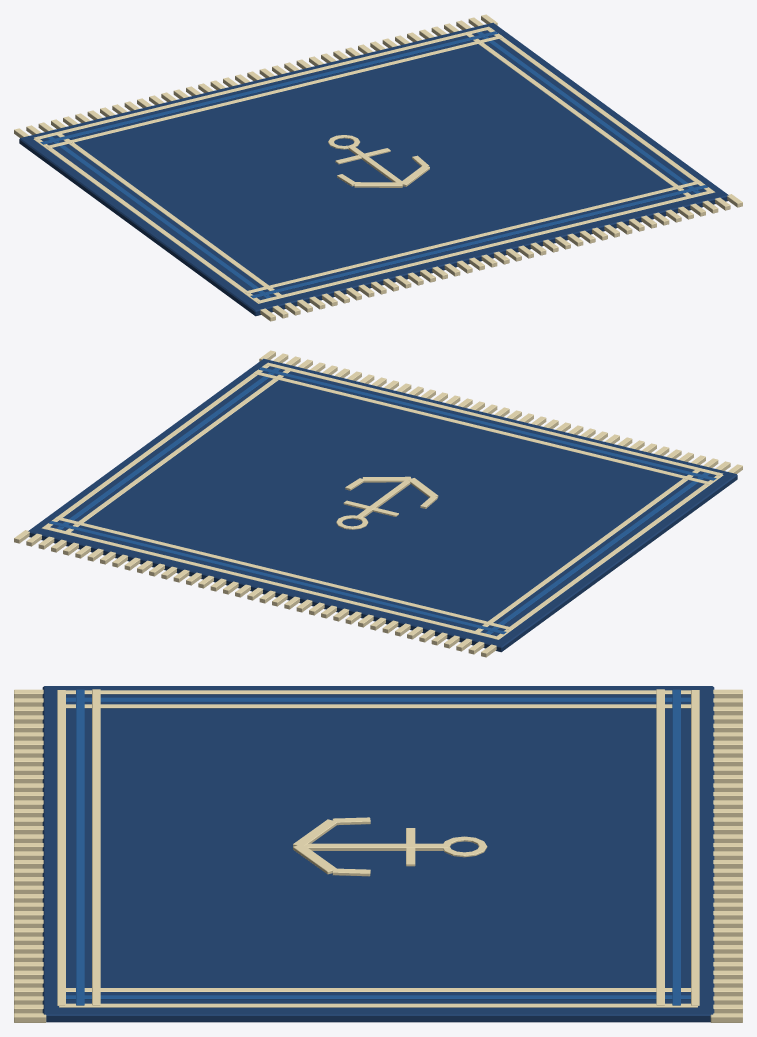
File: bed_rug.glb
The picture shows the model from 3 angles, top to bottom: view 1: azimuth 30°, elevation 25°; view 2: azimuth 150°, elevation 25°; view 3: azimuth 270°, elevation 25°; orthographic projection. The views are drawn at different scales.
Visible parts, largest first — view 1: bed_rug__body__navy, bed_rug__body__linen, bed_rug__body__azure; view 2: bed_rug__body__navy, bed_rug__body__linen, bed_rug__body__azure; view 3: bed_rug__body__navy, bed_rug__body__linen, bed_rug__body__azure.
Part boxes in pixels (box(x1,y1,x2,y2)): bed_rug__body__navy: box(19, 22, 728, 316); bed_rug__body__linen: box(14, 14, 742, 321); bed_rug__body__azure: box(40, 31, 707, 298); bed_rug__body__navy: box(28, 358, 737, 652); bed_rug__body__linen: box(14, 350, 742, 657); bed_rug__body__azure: box(49, 367, 716, 634); bed_rug__body__navy: box(42, 686, 714, 1022); bed_rug__body__linen: box(14, 689, 742, 1022); bed_rug__body__azure: box(66, 689, 690, 1005).
Bounding box in the file's own units: 2.92 × 0.054 × 2.71.
